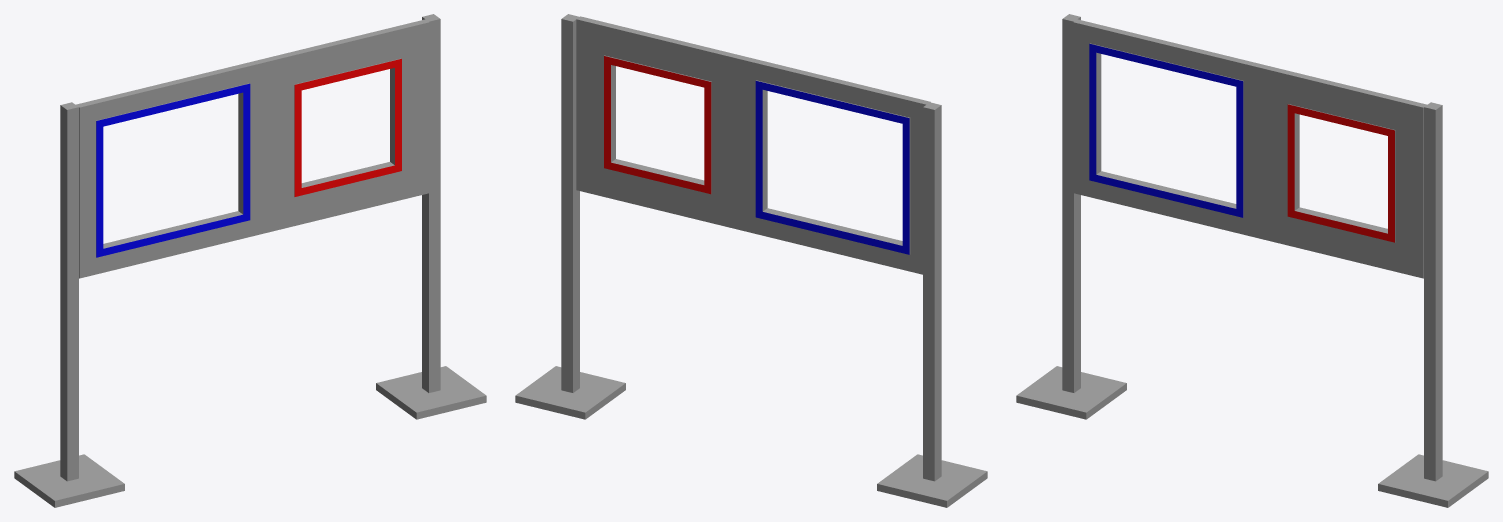
Rendered from M1-Windows.dae.
3 views of the same model, side by side, from view 1: azimuth 30°, elevation 25°; view 2: azimuth 150°, elevation 25°; view 3: azimuth 330°, elevation 25° (orthographic).
Visible parts, largest first — view 1: ID2; view 2: ID2; view 3: ID2.
Boxes of the visible parts, x1,y1,x2,y2 form: ID2: (14, 14, 486, 507); ID2: (515, 14, 987, 507); ID2: (1016, 14, 1488, 507).
Bounding box in the file's own units: 1.85 × 0.3 × 1.55.
